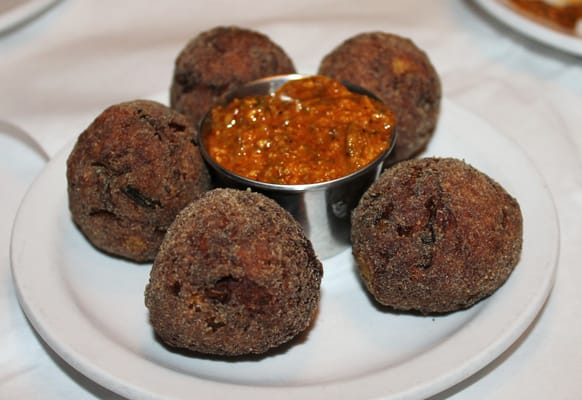sushi: (199, 74, 397, 216)
